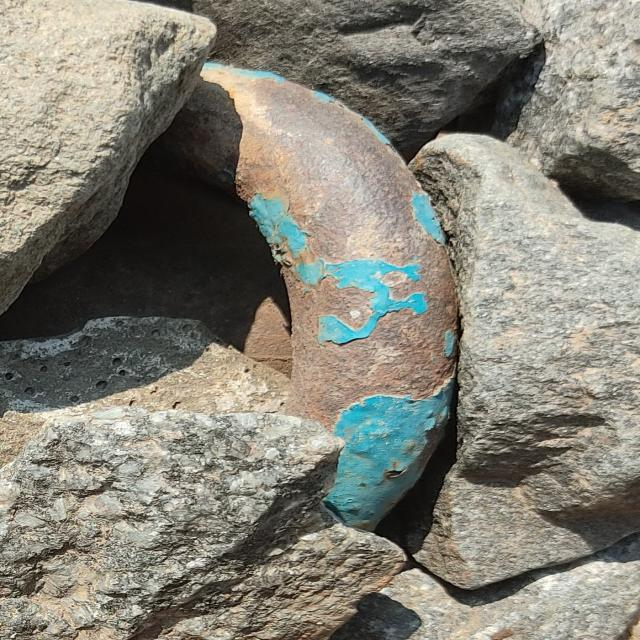track_bolt: (149, 56, 460, 534)
